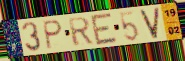3: (21, 21, 42, 53)
5: (118, 10, 140, 42)
E: (89, 12, 119, 47)
P: (43, 19, 64, 51)
R: (66, 16, 95, 48)
V: (139, 6, 161, 40)
